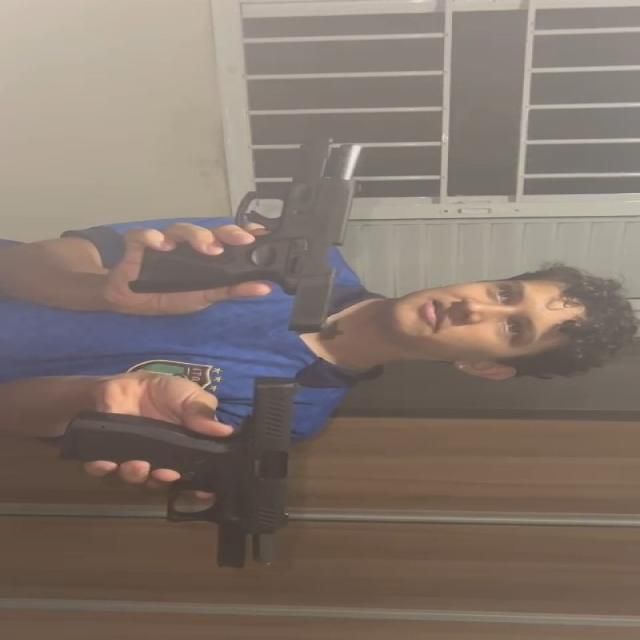gun: (54, 376, 308, 570), (127, 133, 366, 337)
